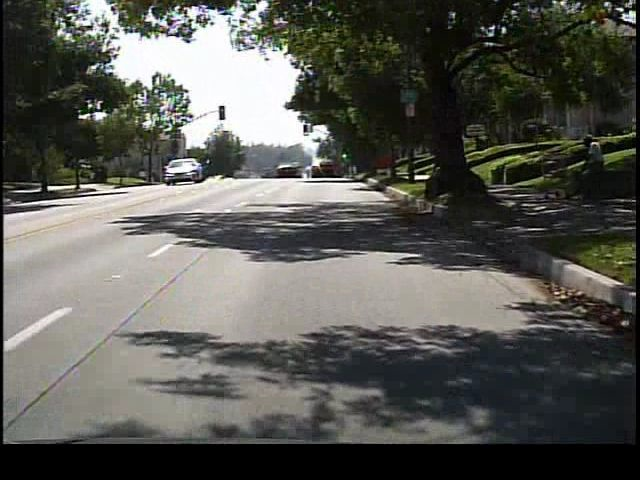person: (576, 131, 610, 209)
